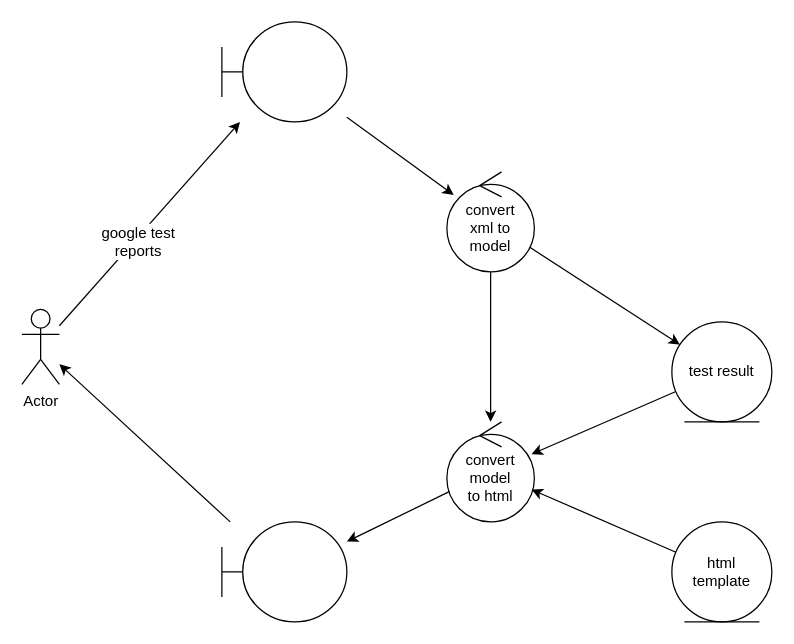
Image size: 794x644. Some labels were removed from this diagram. The centre of each missing label's shape, as x and y in pixels:
"command line" goes at point (284, 71).
"html" goes at point (284, 571).
